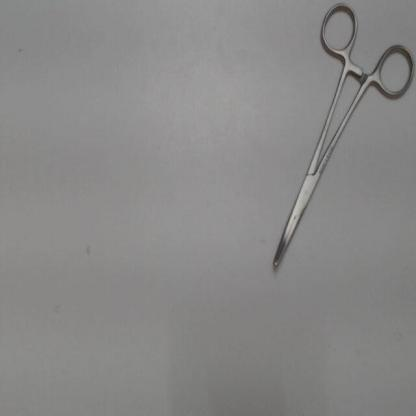Crile Artery Forceps: (267, 2, 414, 276)
